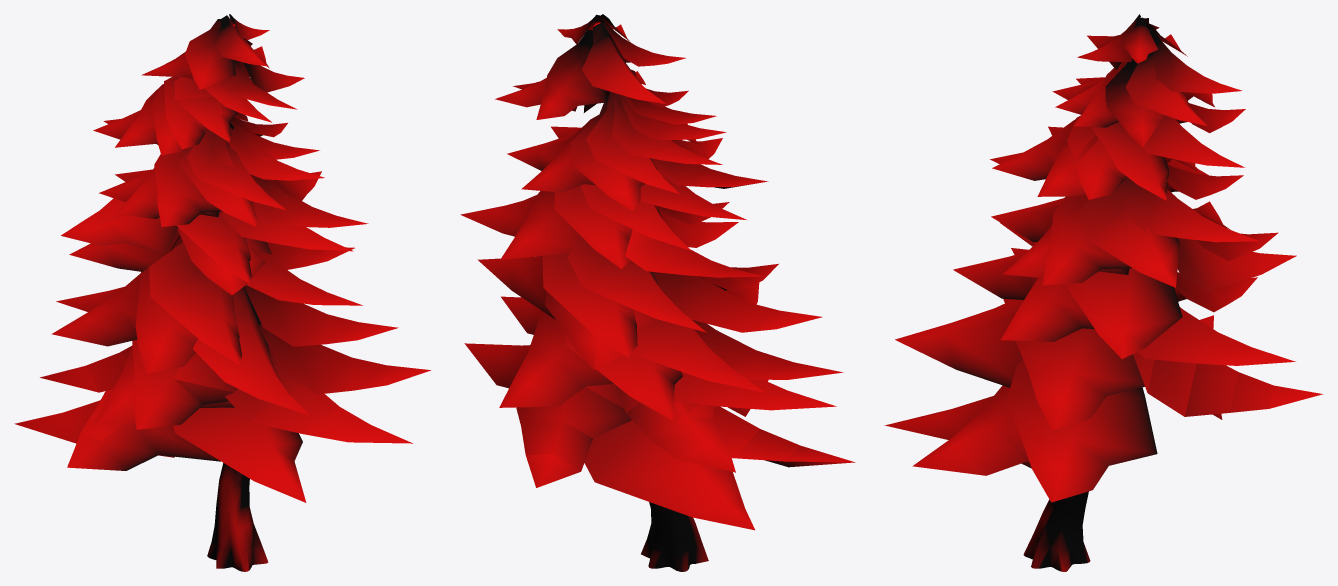
The model's file is pine5.glb.
3 views of the same model, side by side, from view 1: azimuth 30°, elevation 25°; view 2: azimuth 150°, elevation 25°; view 3: azimuth 270°, elevation 25° (orthographic). The views are drawn at different scales.
Visible parts, largest first — view 1: Pine_5; view 2: Pine_5; view 3: Pine_5.
Part boxes in pixels (<box>): Pine_5: <box>14,14,430,571</box>; Pine_5: <box>460,14,855,571</box>; Pine_5: <box>884,14,1323,571</box>.
Bounding box in the file's own units: 6.42 × 8.72 × 6.22.
